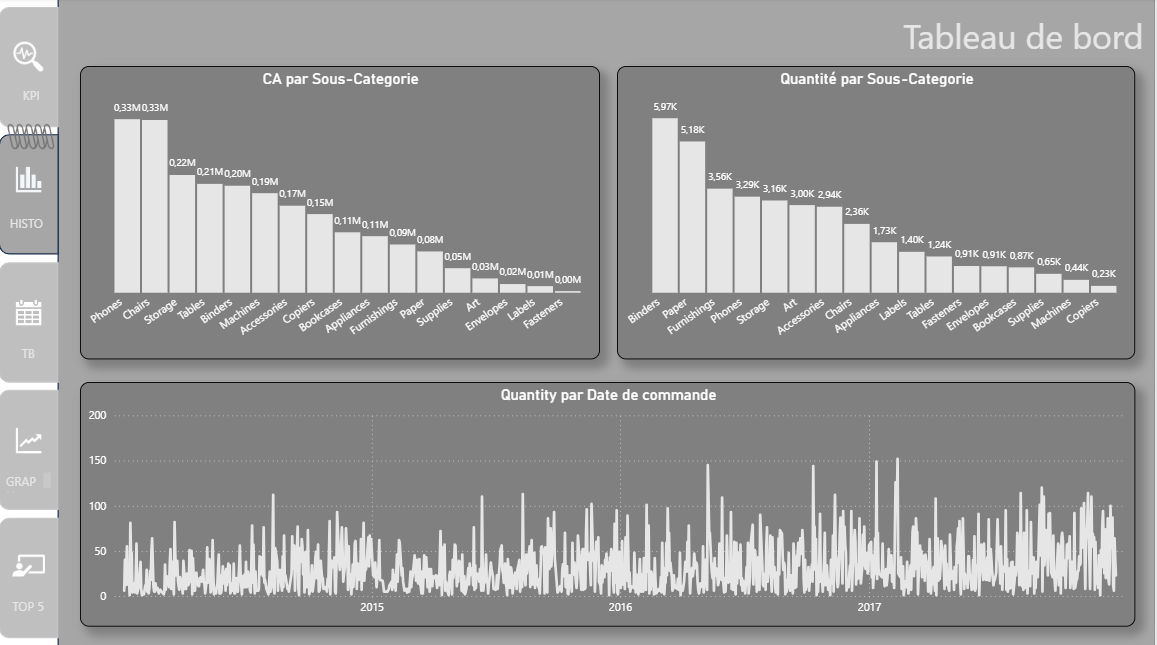

This screenshot's page, from the dashboard's own definition file:
{"tool":"powerbi","page":{"name":"feuille2","canvas":[1280,720],"ordinal":6},"visuals":[{"type":"textbox","box":[800.6,11.6,471.6,64.3],"z":0},{"type":"columnChart","title":"CA par Sous-Categorie","fields":{"Y":["Tous les MESURES.Total des ventes"],"Category":["Superstore 2025.Sub-Category"]},"box":[90,75.8,575.7,325.1],"z":1000},{"type":"columnChart","title":"Quantité par Sous-Categorie","fields":{"Category":["Superstore 2025.Sub-Category"],"Y":["Sum(Superstore 2025.Quantity)"]},"box":[685,75.8,574.5,325.1],"z":2000},{"type":"lineChart","title":"Quantity par Date de commande","fields":{"Category":["Superstore 2025.Order Date"],"Y":["Sum(Superstore 2025.Quantity)"]},"box":[90,425.4,1169.5,271.2],"z":3000},{"type":"image","box":[7.7,39.8,50.1,50.1],"z":4000},{"type":"image","box":[7.7,604,50.1,50.1],"z":5000},{"type":"image","box":[7.7,176.1,50.1,50.1],"z":6000},{"type":"image","box":[7.7,465.2,50.1,50.1],"z":7000},{"type":"image","box":[7.7,323.9,50.1,50.1],"z":8000},{"type":"textbox","box":[7.7,93.8,42.4,33.4],"z":9000},{"type":"textbox","box":[0,236.5,60.4,32.1],"z":10000},{"type":"textbox","box":[2.6,380.4,60.4,32.1],"z":11000},{"type":"textbox","box":[2.6,520.5,60.4,32.1],"z":12000},{"type":"textbox","box":[2.6,660.6,60.4,32.1],"z":13000},{"type":"shape","box":[0,11.6,63,131.1],"z":14000},{"type":"shape","box":[0,151.6,63,131.1],"z":15000},{"type":"shape","box":[0,434.4,63,131.1],"z":16000},{"type":"shape","box":[0,575.7,63,131.1],"z":17000},{"type":"shape","box":[0,294.3,63,131.1],"z":18000}]}

Visuals, with their boxes on the page's 1280x720 design canvas (x1, y1, x2, y2). These are canvas units, not pixel positions in the 1157x645 screenshot, which may show the page scaled, cropped or inside an application window:
textbox: [801, 12, 1272, 76]
"CA par Sous-Categorie" columnChart: [90, 76, 666, 401]
"Quantité par Sous-Categorie" columnChart: [685, 76, 1260, 401]
"Quantity par Date de commande" lineChart: [90, 425, 1260, 697]
image: [8, 40, 58, 90]
image: [8, 604, 58, 654]
image: [8, 176, 58, 226]
image: [8, 465, 58, 515]
image: [8, 324, 58, 374]
textbox: [8, 94, 50, 127]
textbox: [0, 236, 60, 269]
textbox: [3, 380, 63, 412]
textbox: [3, 520, 63, 553]
textbox: [3, 661, 63, 693]
shape: [0, 12, 63, 143]
shape: [0, 152, 63, 283]
shape: [0, 434, 63, 566]
shape: [0, 576, 63, 707]
shape: [0, 294, 63, 425]
